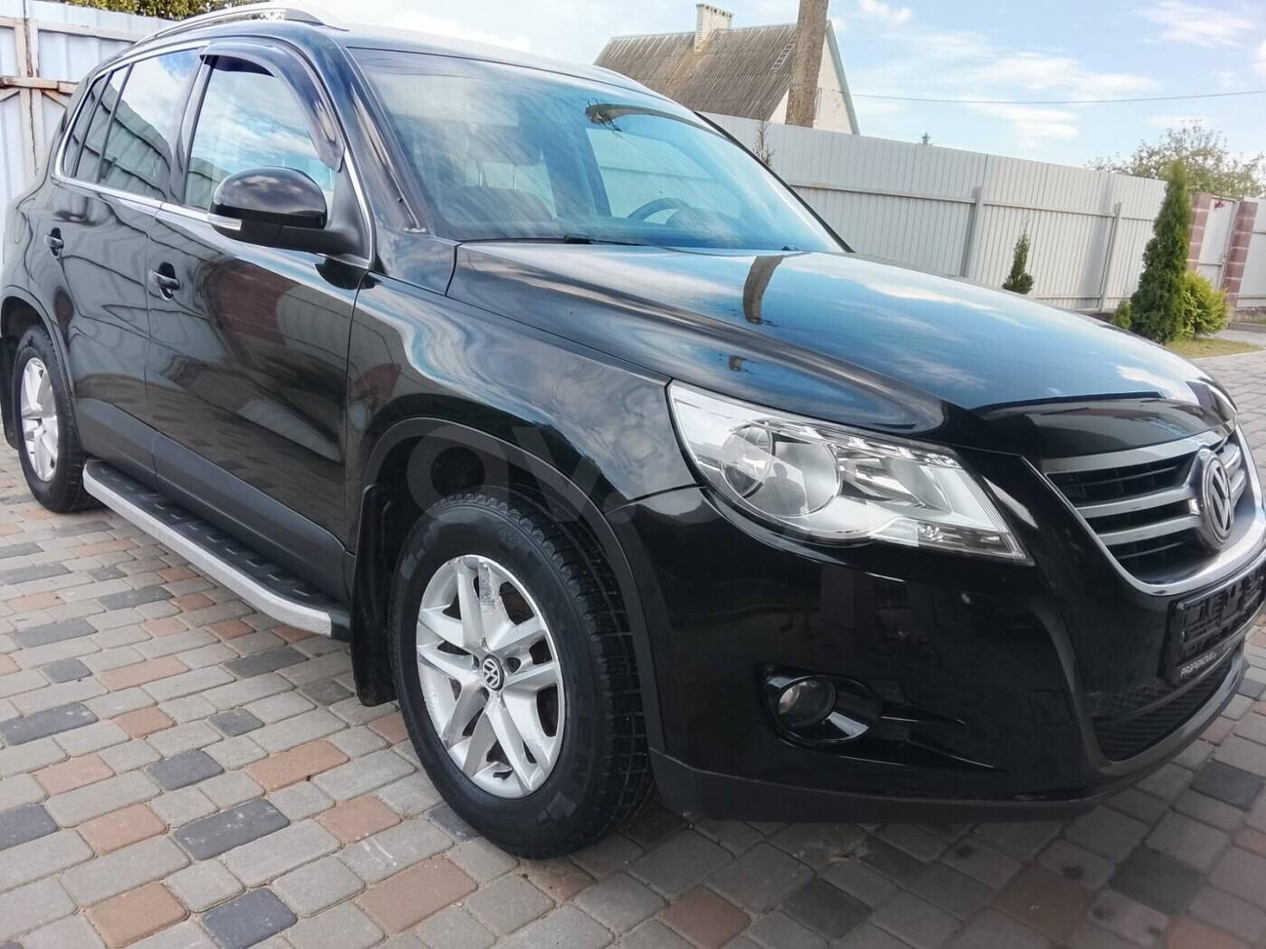Tiguan_2007-2011: (0, 14, 1266, 857)
